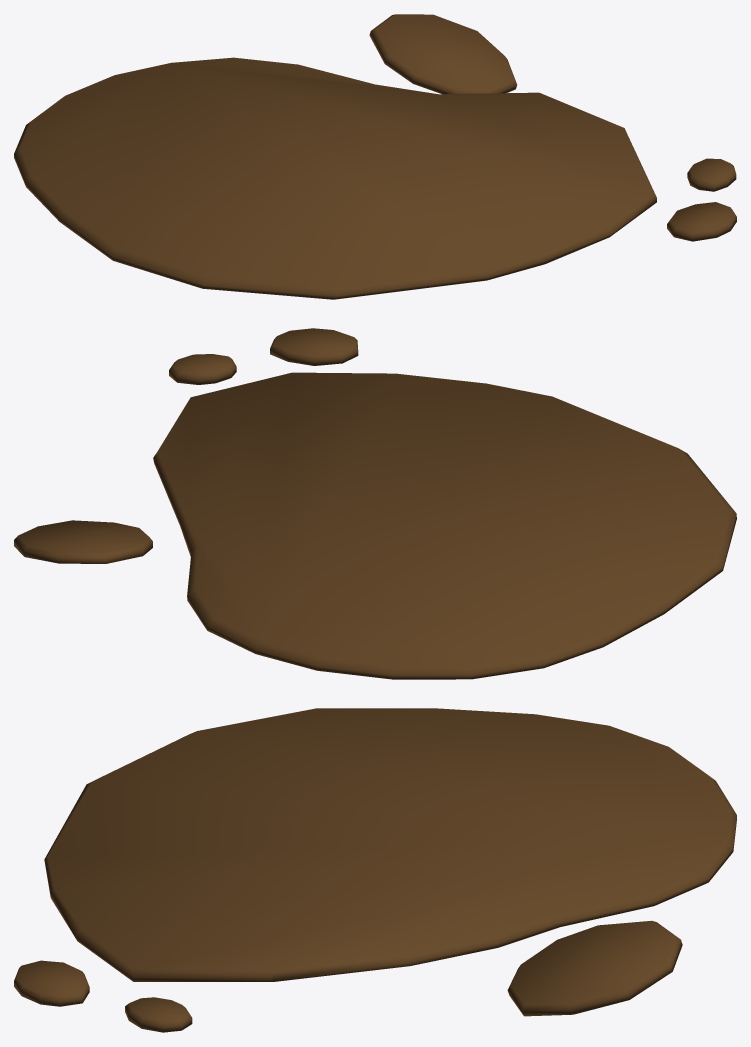
The model's file is lama02.fbx.
3 renders of one model, top to bottom at view 1: azimuth 30°, elevation 25°; view 2: azimuth 150°, elevation 25°; view 3: azimuth 270°, elevation 25°, orthographic. The views are drawn at different scales.
Visible parts, largest first — view 1: poça_lama; view 2: poça_lama; view 3: poça_lama.
Part boxes in pixels (x1,y1,x2,y2): poça_lama: (14,14,736,299); poça_lama: (14,328,736,679); poça_lama: (14,708,736,1032).
Size of the model in its own units: 566 by 547 by 39.86.
